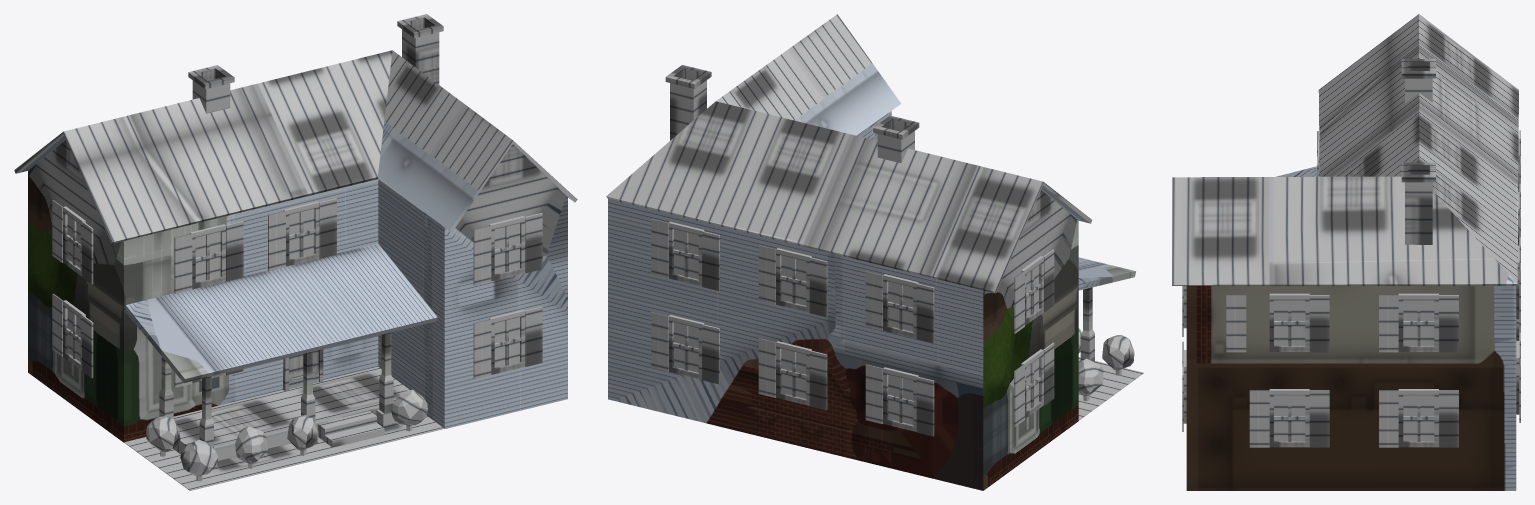
Rendered from farmhouse.obj.
The picture shows the model from 3 angles, left to right: view 1: azimuth 30°, elevation 25°; view 2: azimuth 150°, elevation 25°; view 3: azimuth 270°, elevation 25°; orthographic projection. The views are drawn at different scales.
Parts seen in each view (by area): view 1: FarmHouse; view 2: FarmHouse; view 3: FarmHouse.
Boxes of the visible parts, x1=… form: FarmHouse: x1=14, y1=14, x2=577, y2=490; FarmHouse: x1=606, y1=14, x2=1143, y2=490; FarmHouse: x1=1172, y1=14, x2=1520, y2=490.
Bounding box in the file's own units: 25.34 × 18.43 × 19.12.
Materials: 1 (1 with a texture image).
